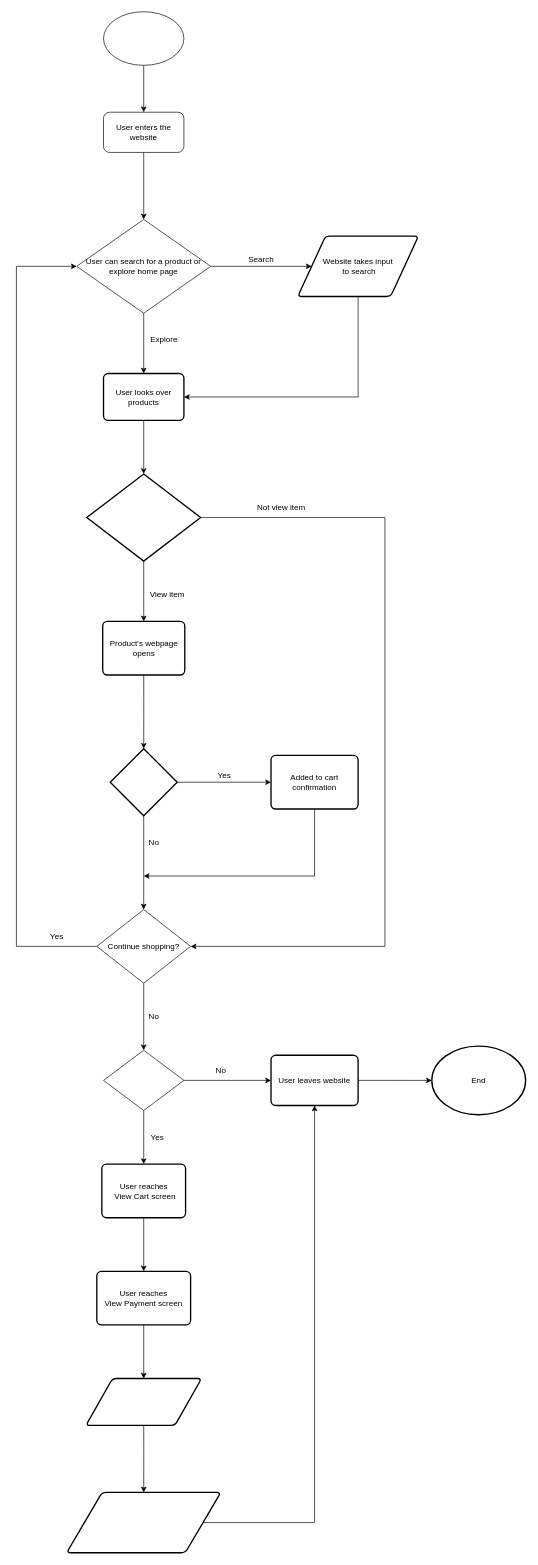
Some shapes in this 538 by 1565 pixel diagram are drawn without their labels. Here are the shapes that lost their labels. From the top down, the box of each, then its label:
(103, 11, 184, 65): Start
(86, 473, 201, 561): User can view a specific item
(109, 748, 178, 816): Add to cart?
(103, 1050, 184, 1111): Checkout?
(85, 1378, 202, 1426): User inputs payment information
(66, 1491, 221, 1553): Order confrmation screen is shown and user receives emal
